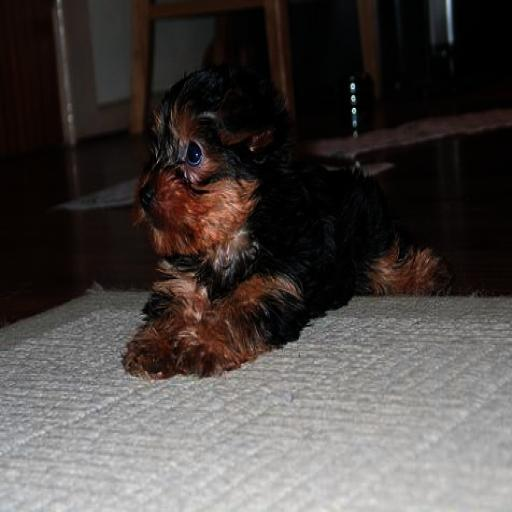dog_face: (135, 74, 271, 254)
